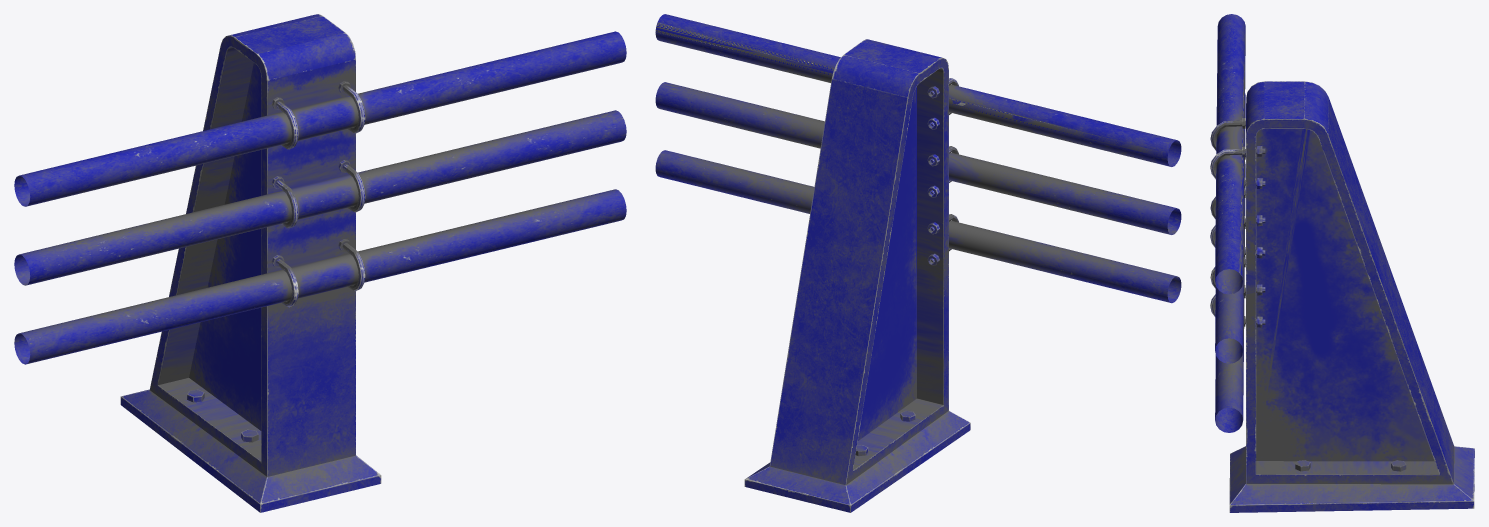
File: w_barrier_guard_rail_bridge.glb
3 views of the same model, side by side, from view 1: azimuth 30°, elevation 25°; view 2: azimuth 150°, elevation 25°; view 3: azimuth 270°, elevation 25° (orthographic). The views are drawn at different scales.
Parts seen in each view (by area): view 1: Object_4, Object_3; view 2: Object_4, Object_3; view 3: Object_4, Object_3.
Boxes of the visible parts, <box> form: Object_4: <box>14,14,626,512</box>; Object_3: <box>189,63,261,430</box>; Object_4: <box>655,14,1181,512</box>; Object_3: <box>858,87,916,440</box>; Object_4: <box>1210,14,1474,512</box>; Object_3: <box>1256,128,1434,461</box>.
Bounding box in the file's own units: 3 × 2.12 × 1.32.
Materials: 1 (1 with a texture image).
